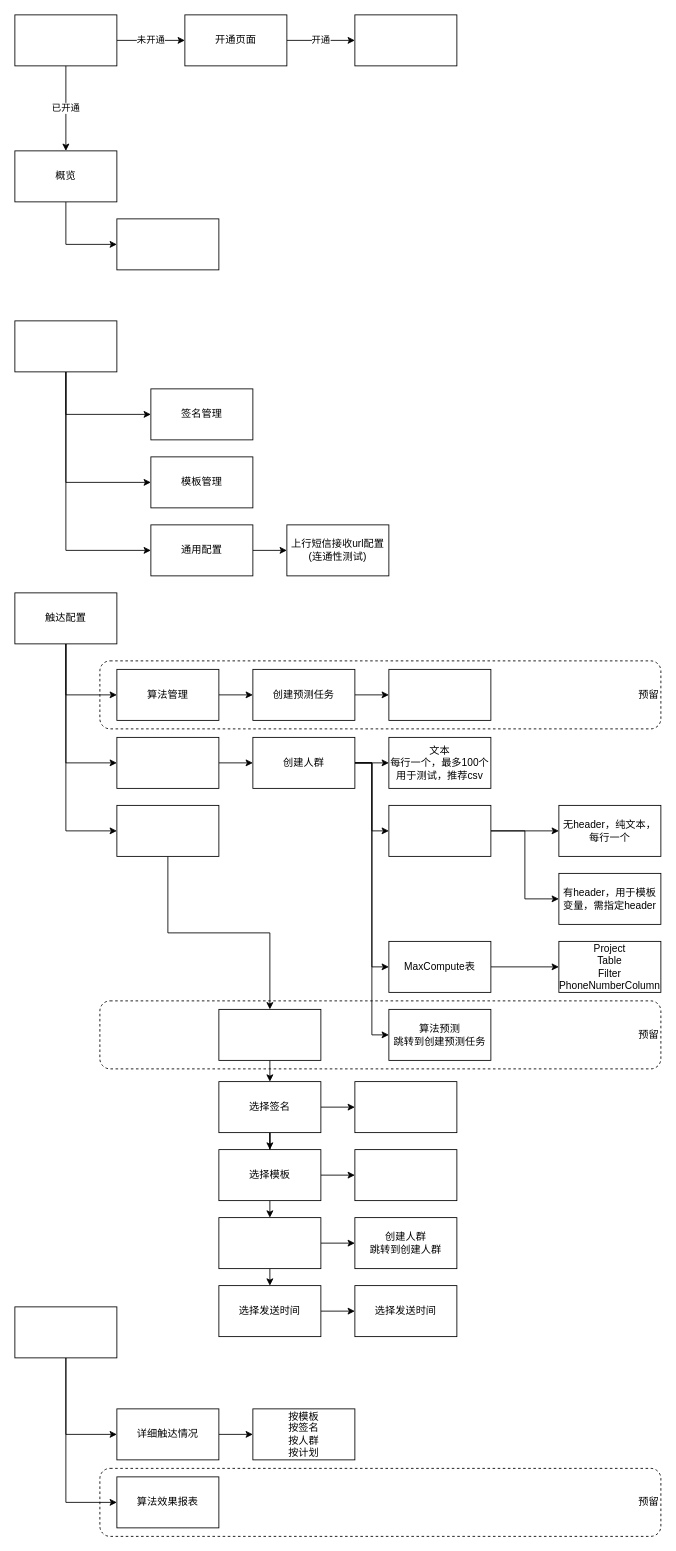
Image size: 676x1551. Some labels were removed from this diagram. The shapes that lost their labels are listed below. From the top down, each one's centre as x and y in pixels, then its label:
At [65,40]: "开通检查".
At [405,40]: "common-buy 含pai协议 短信服务协议".
At [167,244]: "每日触达数据".
At [65,346]: "触达通道配置".
At [439,694]: "数据源 选择算法 odps信息 产出odps表到人群".
At [167,762]: "人群管理".
At [167,830]: "发送计划".
At [439,830]: "CSV 上传".
At [269,1034]: "触达方式短信".
At [405,1107]: "申请签名 跳转到申请签名".
At [405,1175]: "创建模板 跳转到创建模板".
At [269,1243]: "选择人群".
At [65,1332]: "触达报表".
